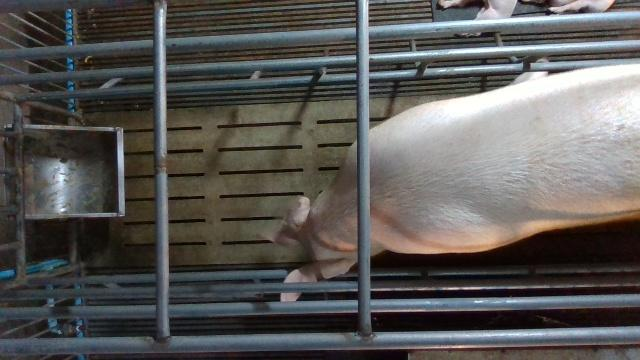piglet: (438, 0, 519, 37)
sow-stand: (281, 66, 640, 304)
